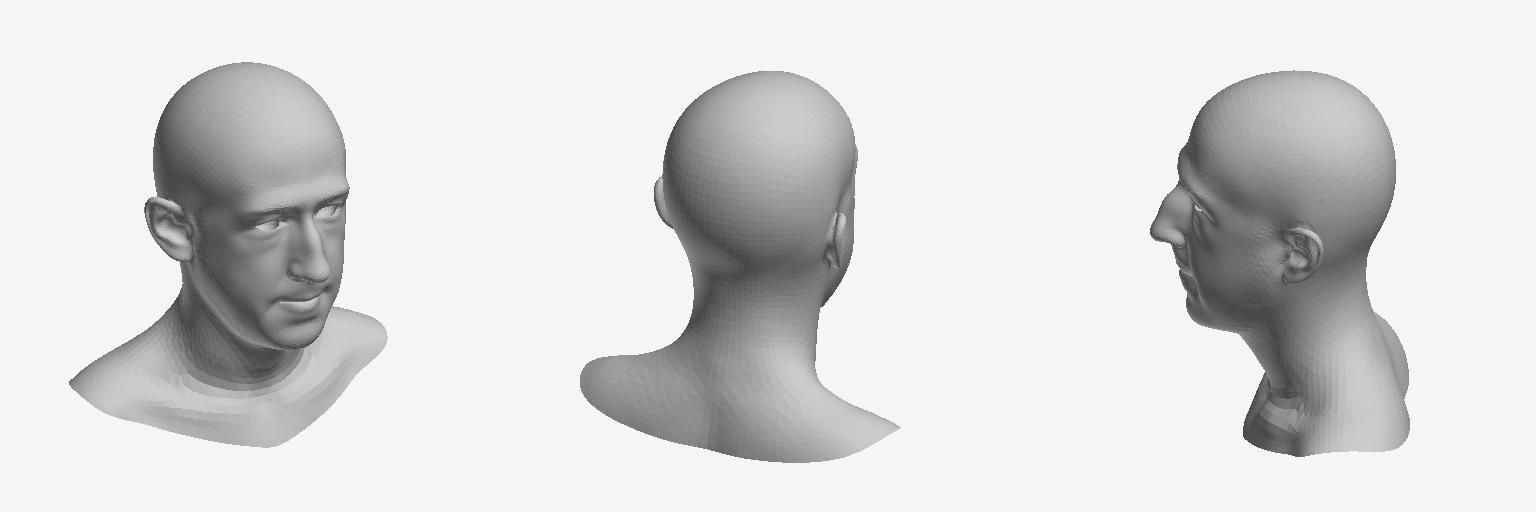
The model's file is 160_no_pose.obj.
3 views of the same model, side by side, from view 1: azimuth 30°, elevation 25°; view 2: azimuth 150°, elevation 25°; view 3: azimuth 270°, elevation 25° (orthographic).
Bounding box in the file's own units: 2.95 × 3.31 × 2.2.